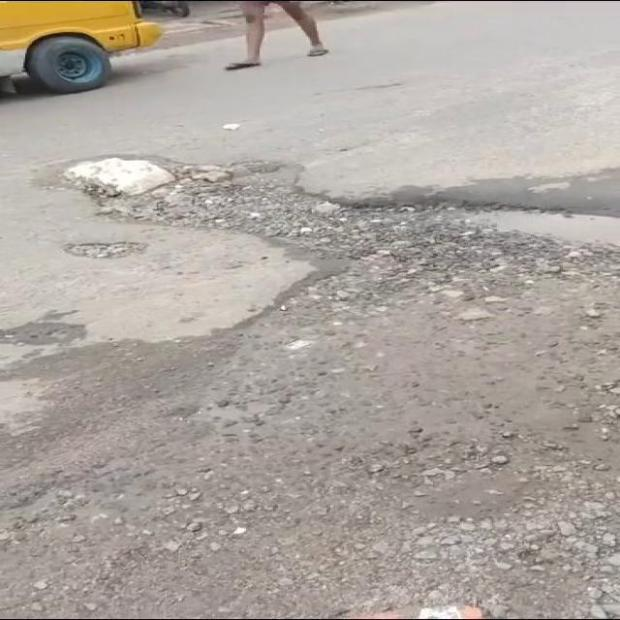lubang: (46, 153, 619, 494), (64, 241, 147, 259)
